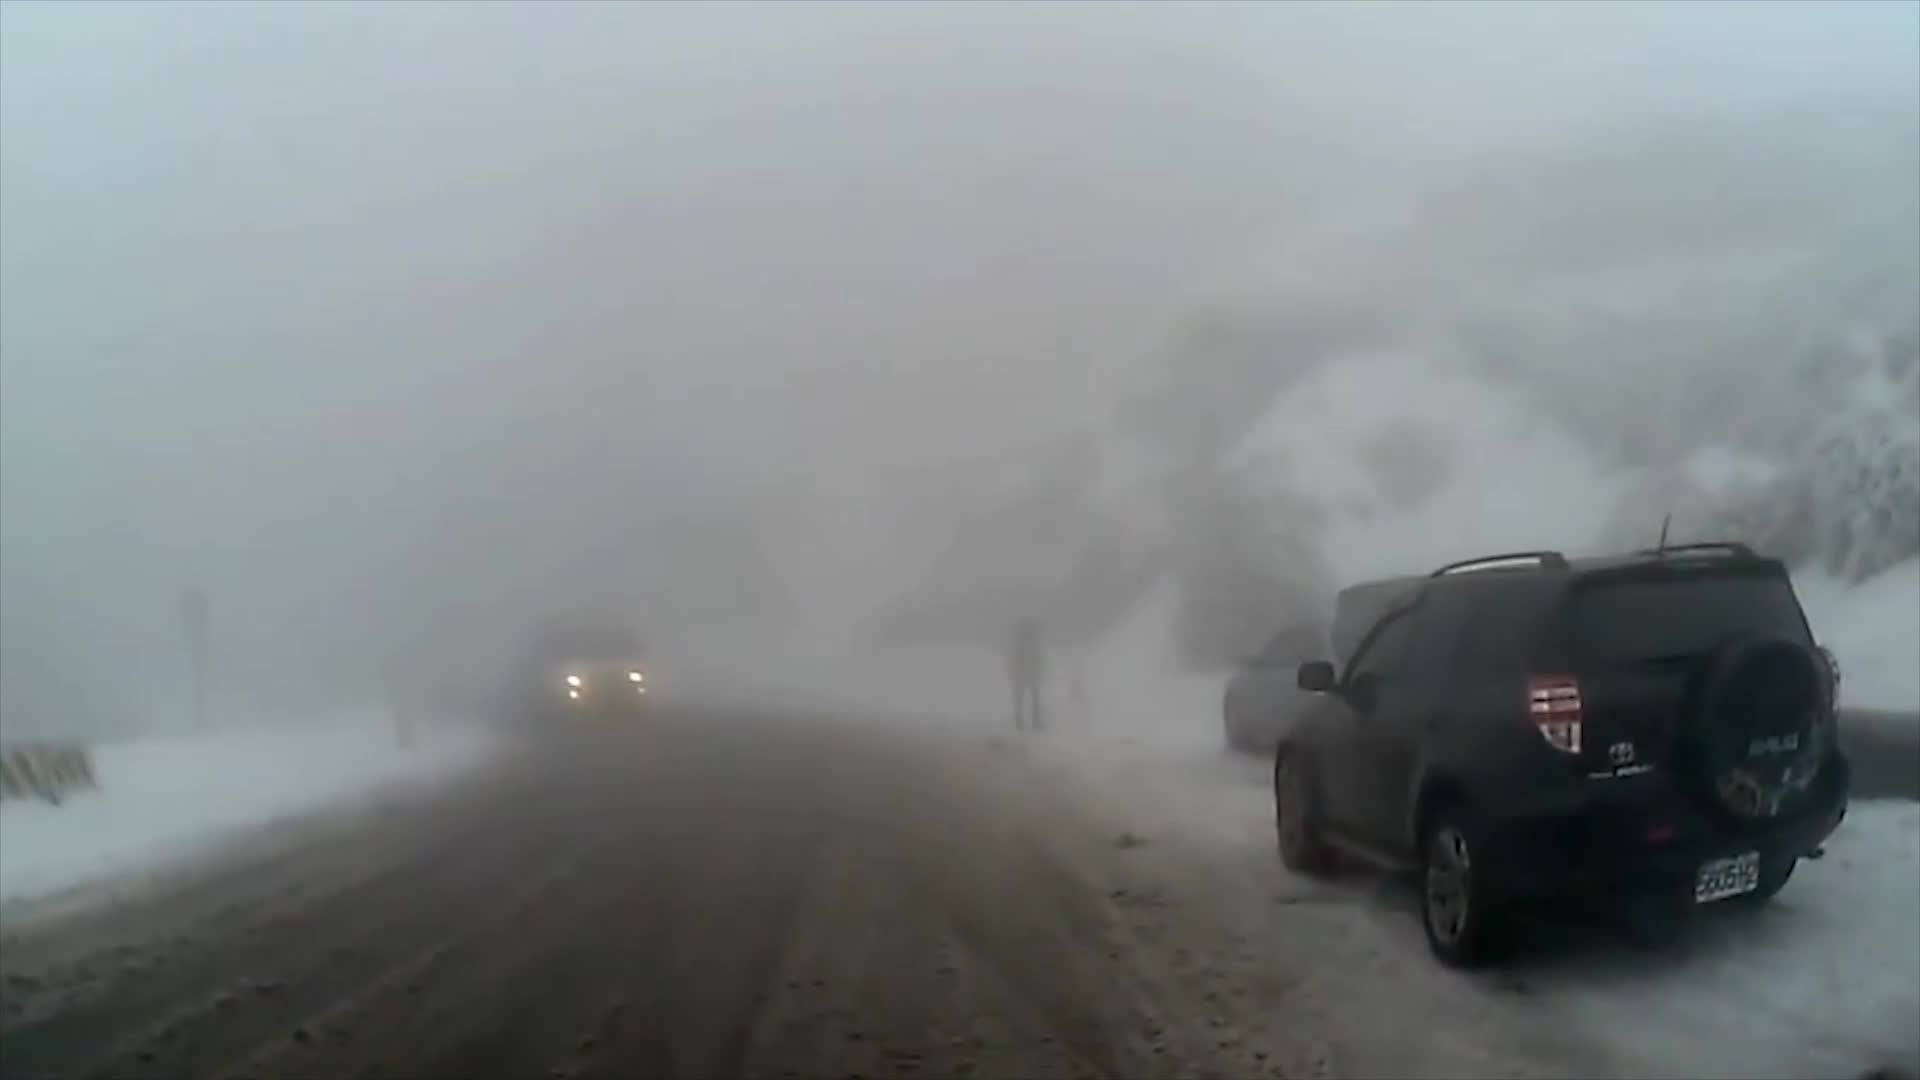pedestrian: (1003, 613, 1047, 734)
vehicle: (1268, 536, 1851, 970), (1222, 563, 1536, 759), (521, 610, 654, 721)
